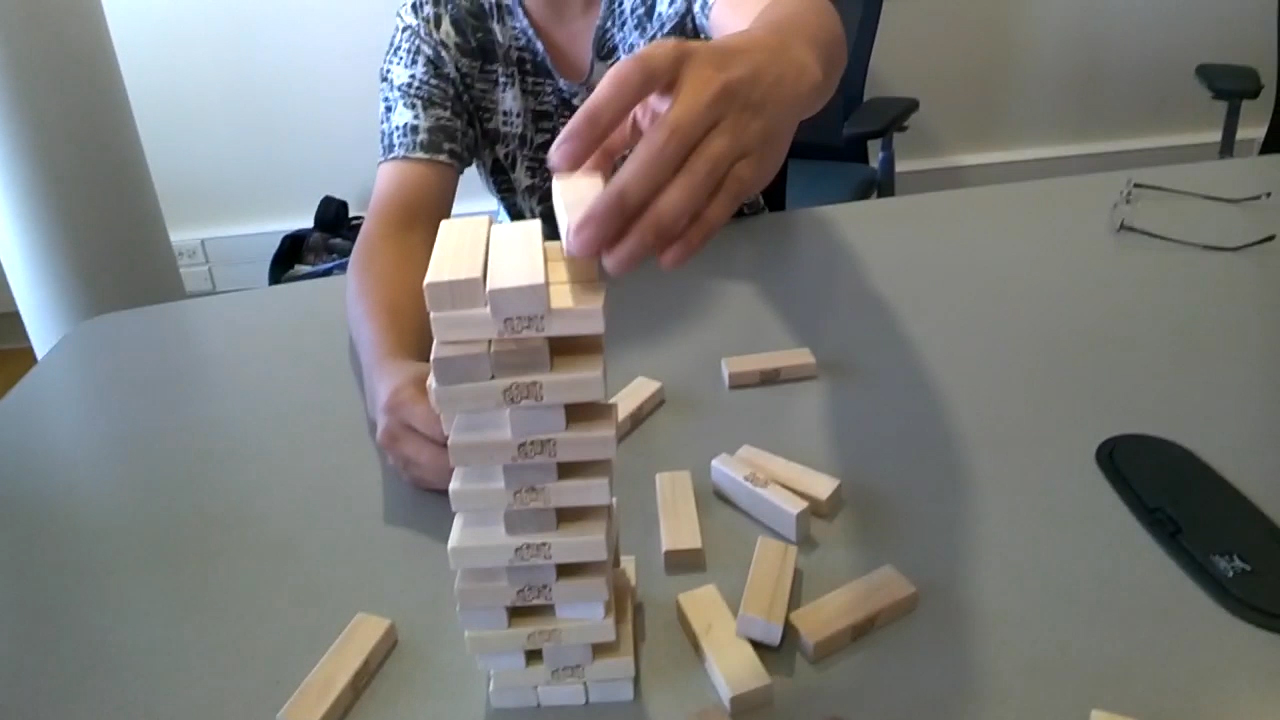hand: (556, 35, 804, 274), (371, 364, 439, 490)
